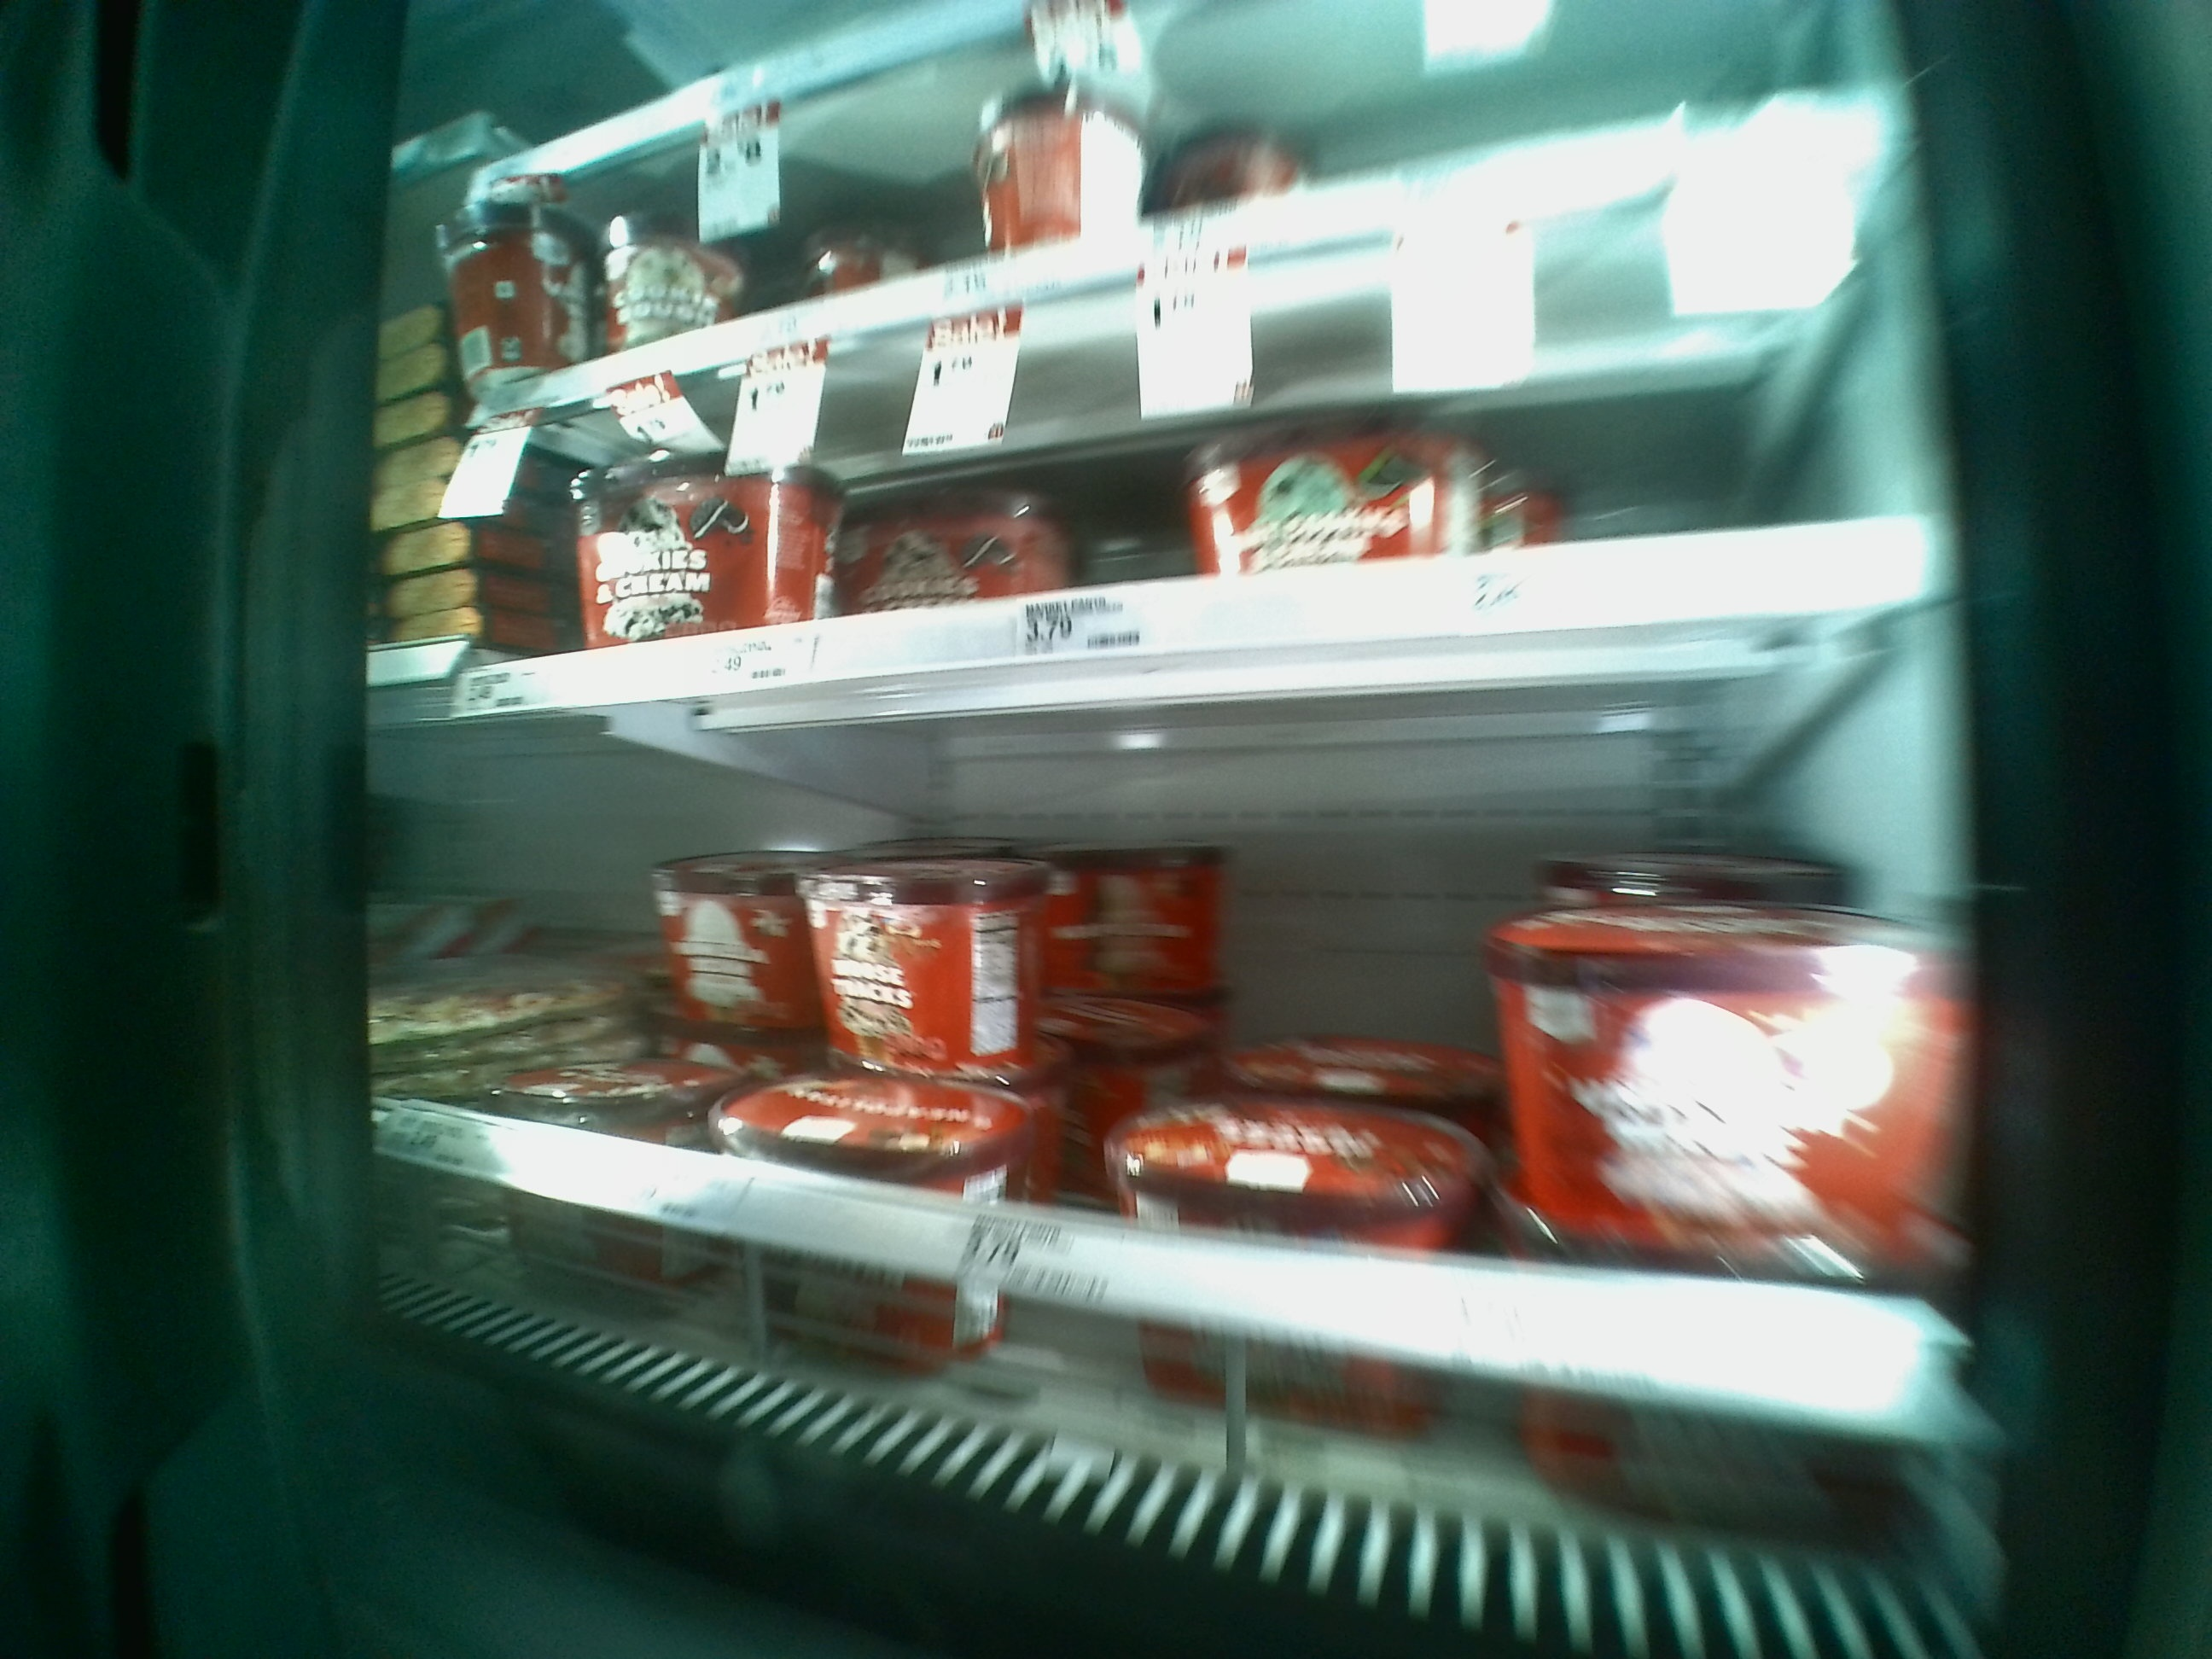shelf: (446, 620, 1965, 1457)
